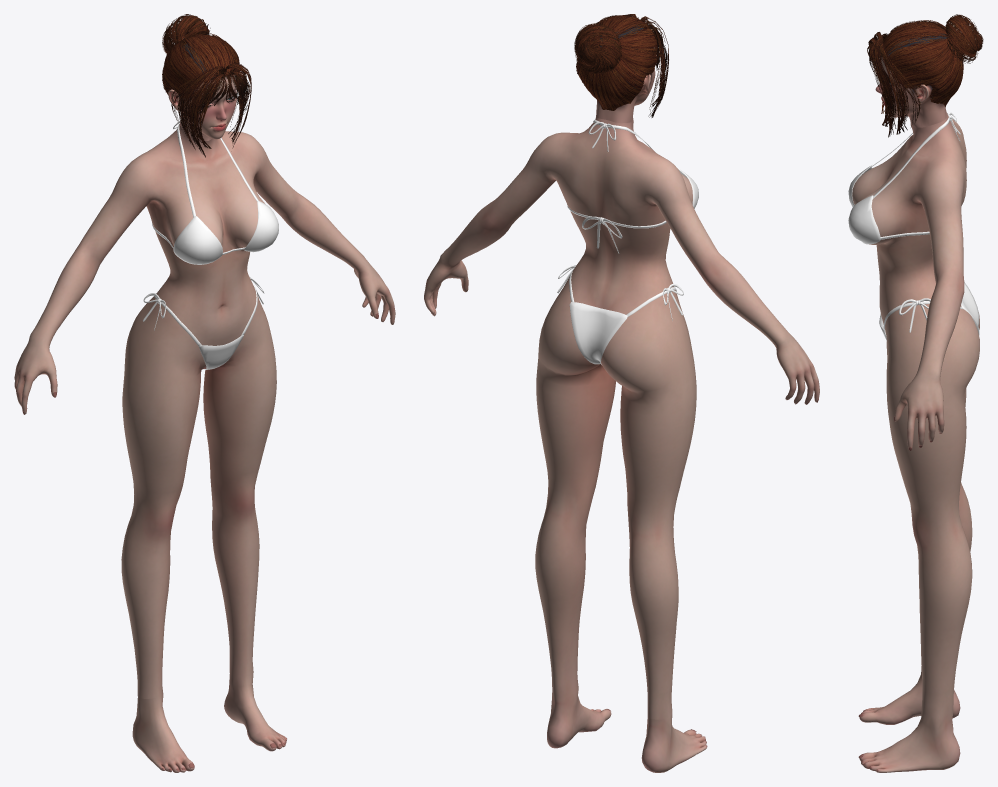
Rendered from girl.glb.
3 views of the same model, side by side, from view 1: azimuth 30°, elevation 25°; view 2: azimuth 150°, elevation 25°; view 3: azimuth 270°, elevation 25° (orthographic). The views are drawn at different scales.
Parts seen in each view (by area): view 1: Object_6, Object_7, Object_5, Object_4, Object_3; view 2: Object_6, Object_5, Object_7, Object_3, Object_4; view 3: Object_6, Object_5, Object_7, Object_4, Object_3.
Part boxes in pixels (left/top/right/bottom): Object_6: left=14, top=124, right=395, bottom=772; Object_7: left=142, top=121, right=278, bottom=369; Object_5: left=162, top=14, right=239, bottom=97; Object_4: left=171, top=62, right=251, bottom=157; Object_3: left=168, top=43, right=236, bottom=140; Object_6: left=424, top=117, right=819, bottom=772; Object_5: left=574, top=15, right=657, bottom=110; Object_7: left=557, top=120, right=698, bottom=364; Object_3: left=591, top=25, right=655, bottom=123; Object_4: left=625, top=14, right=668, bottom=117; Object_6: left=852, top=112, right=979, bottom=772; Object_5: left=882, top=14, right=983, bottom=107; Object_7: left=848, top=112, right=979, bottom=340; Object_4: left=867, top=32, right=920, bottom=137; Object_3: left=875, top=33, right=953, bottom=127.
Size of the model in its own units: 0.9791 by 1.79 by 0.3002.
Materials: 9 (8 with a texture image).
